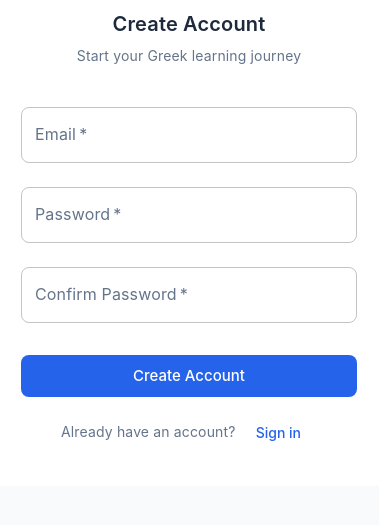
Test: RegisterForm Component › displays error when passwords do not match
The width and height of the screenshot is (379, 525).
In the field labelled "Email *": (189, 135) [21,107,357,163], type "test@example.com"
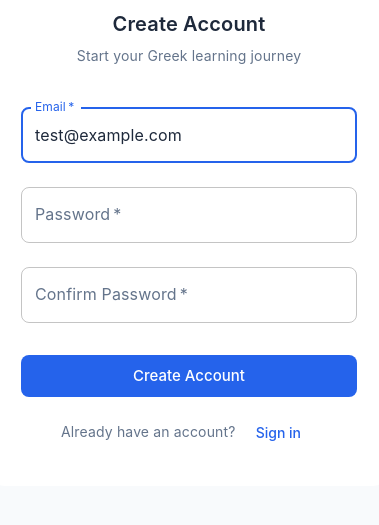
In the password field labelled "Password *": (189, 215) [21,187,357,243], type "password123"
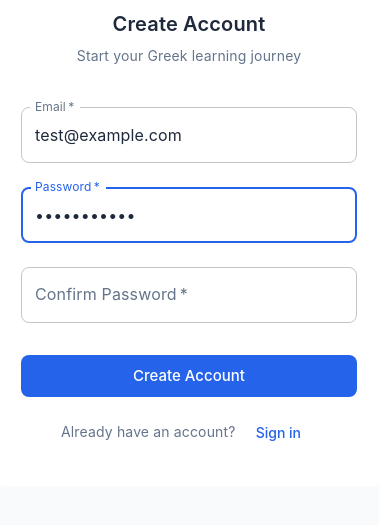
In the password field labelled "Confirm Password *": (189, 295) [21,267,357,323], type "differentpassword"
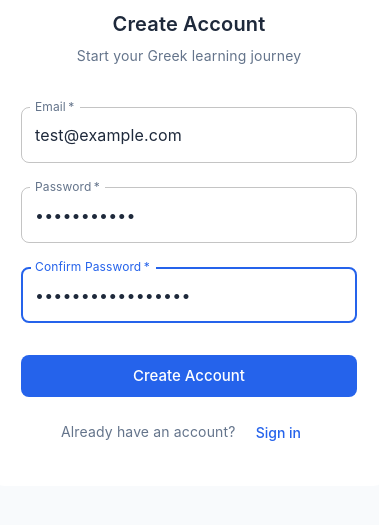
Click the button "Create Account": (189, 376) [21,355,357,397]
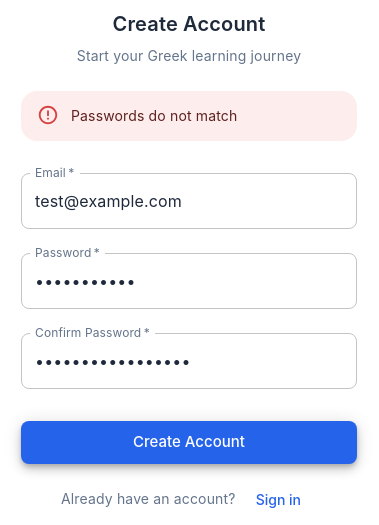
Expected: the text "Passwords do not match" is shown, [71,107,237,124]
